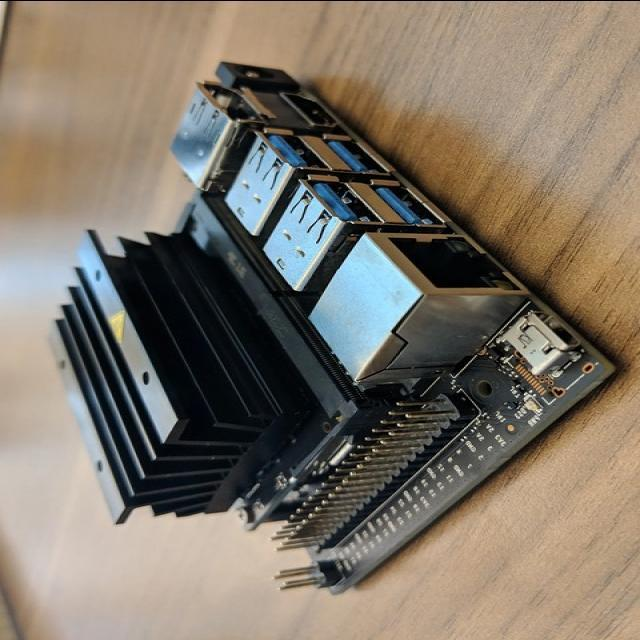Jetson Nano: (48, 62, 616, 595)
